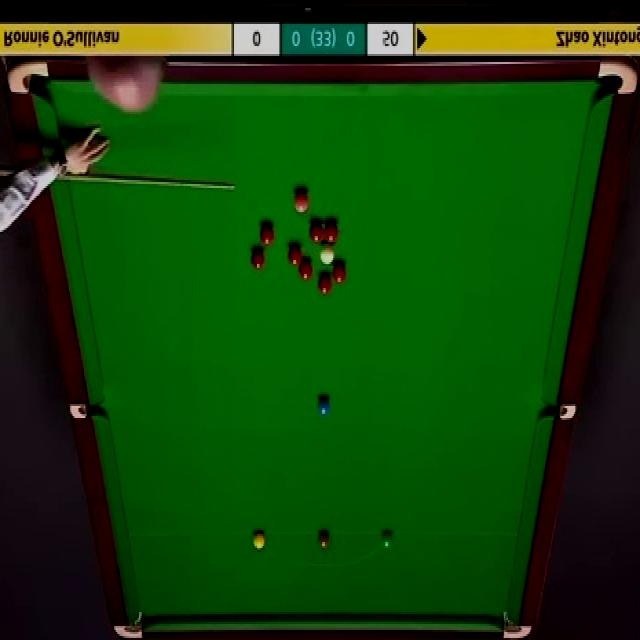blue-ball: (317, 397, 331, 416)
brown-ball: (316, 530, 331, 552)
green-ball: (380, 530, 395, 550)
pink-ball: (293, 190, 310, 214)
red-ball: (258, 220, 276, 245), (331, 260, 348, 284), (308, 221, 324, 245), (287, 242, 302, 266), (250, 248, 266, 270), (298, 259, 314, 281), (317, 276, 333, 297), (324, 220, 338, 243)
white-ball: (320, 242, 336, 266)
yellow-ball: (252, 531, 265, 552)
